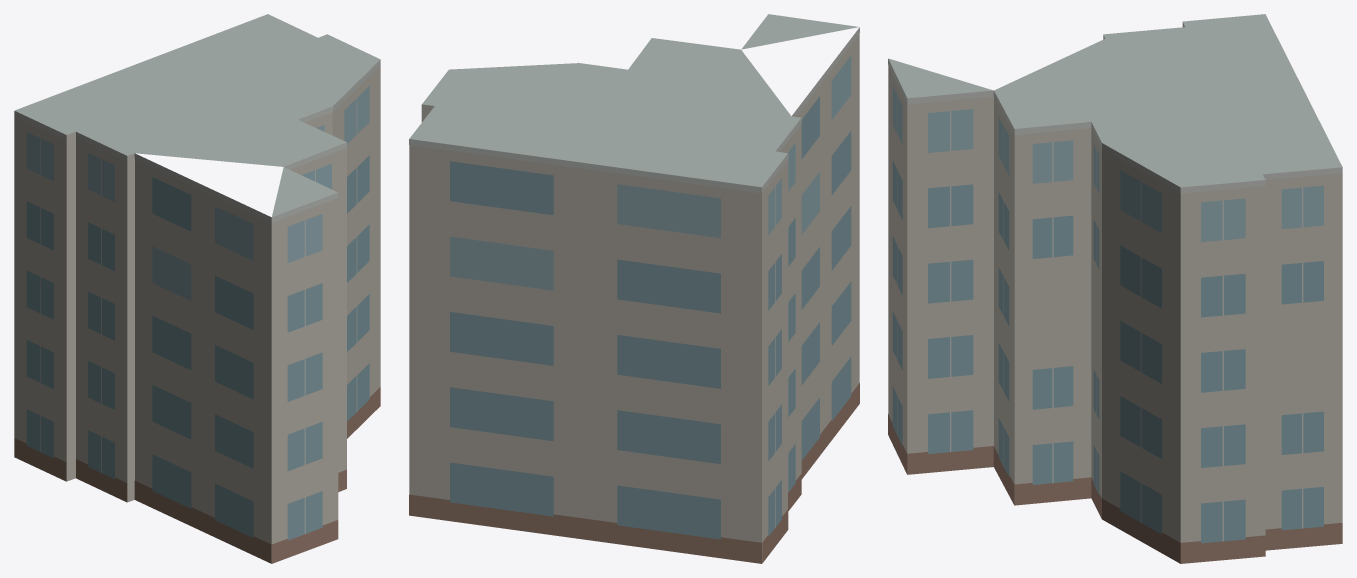
File: survey-upis-32530554.glb
3 views of the same model, side by side, from view 1: azimuth 30°, elevation 25°; view 2: azimuth 150°, elevation 25°; view 3: azimuth 270°, elevation 25° (orthographic). The views are drawn at different scales.
Visible parts, largest first — view 1: survey-upis-32530554.tmp; view 2: survey-upis-32530554.tmp; view 3: survey-upis-32530554.tmp.
Boxes of the visible parts, x1,y1,x2,y2 form: survey-upis-32530554.tmp: [14, 14, 380, 563]; survey-upis-32530554.tmp: [409, 14, 859, 563]; survey-upis-32530554.tmp: [888, 14, 1342, 563].
Size of the model in its own units: 15.13 by 15.3 by 16.76.
